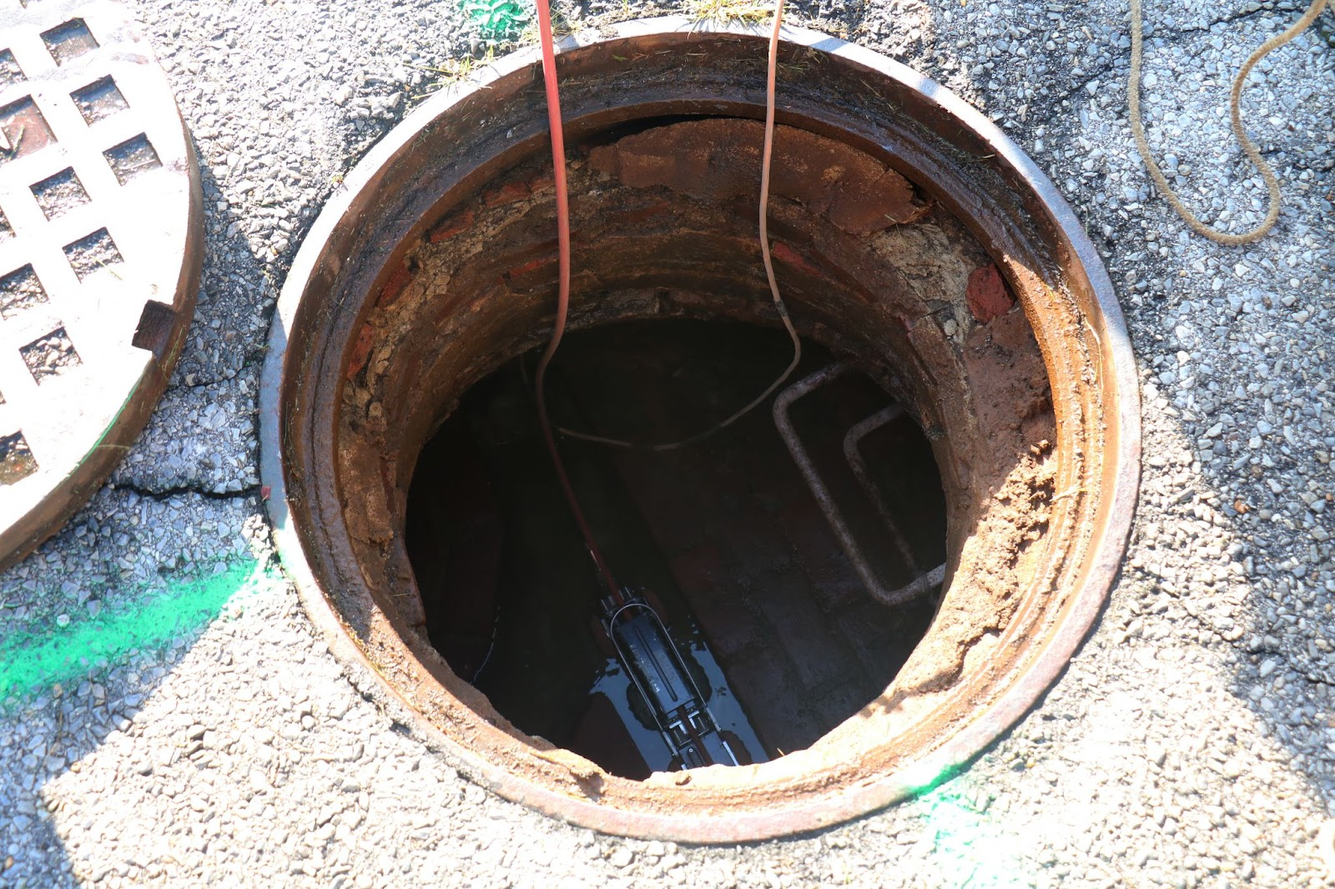Open_manhole: (229, 23, 1148, 855)
